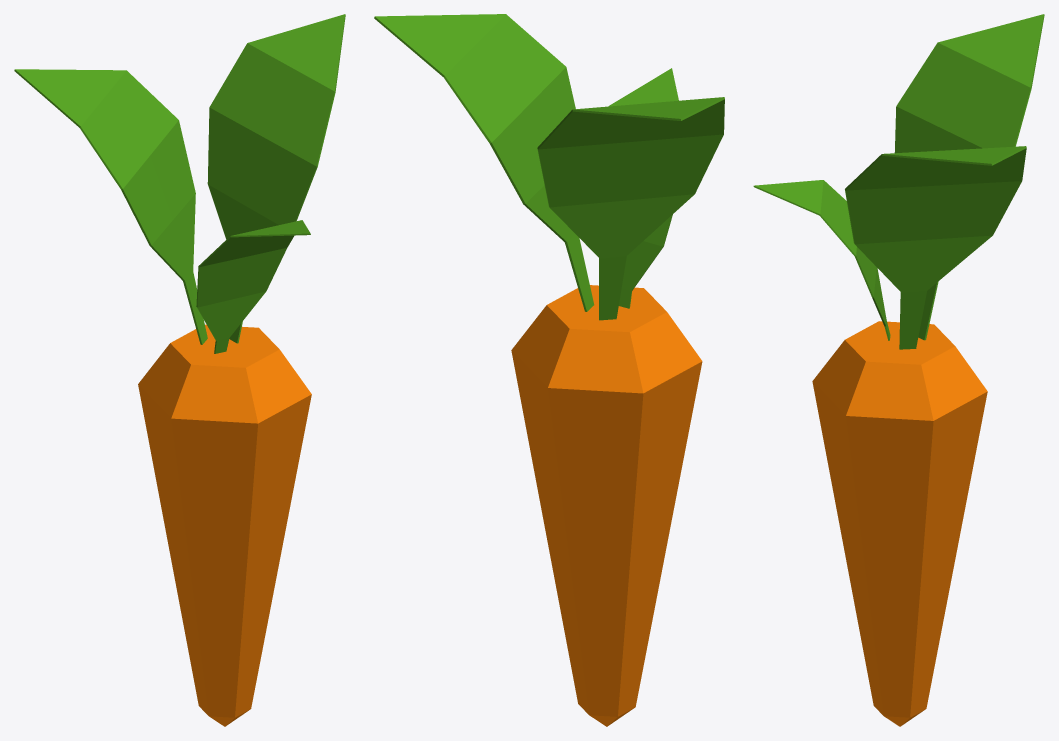
Rendered from Isl_3_Carrot_1.fbx.
3 renders of one model, left to right at view 1: azimuth 30°, elevation 25°; view 2: azimuth 150°, elevation 25°; view 3: azimuth 270°, elevation 25°, orthographic. The views are drawn at different scales.
Visible parts, largest first — view 1: Isl_3_Carrot_1; view 2: Isl_3_Carrot_1; view 3: Isl_3_Carrot_1.
Part boxes in pixels (box(x1,y1,x2,y2)): Isl_3_Carrot_1: box(14, 14, 345, 726); Isl_3_Carrot_1: box(374, 14, 724, 726); Isl_3_Carrot_1: box(753, 14, 1044, 726).
Bounding box in the file's own units: 44.37 × 36.32 × 88.76.
Materials: 1 (1 with a texture image).
